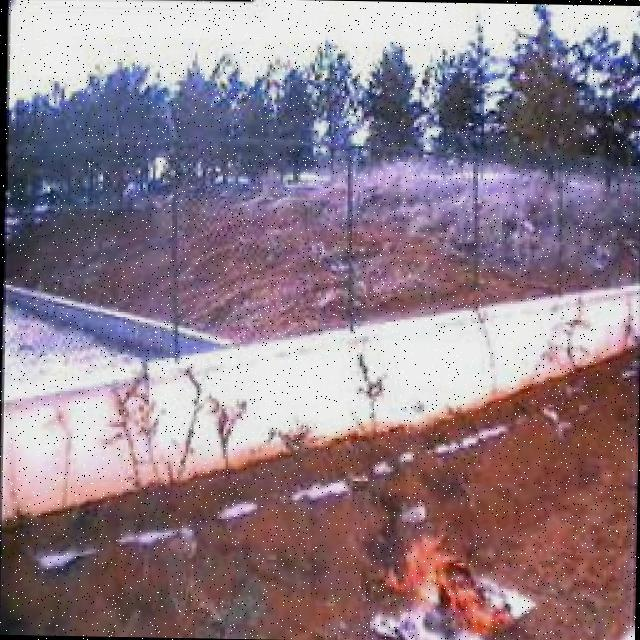Fire: (366, 525, 517, 640)
